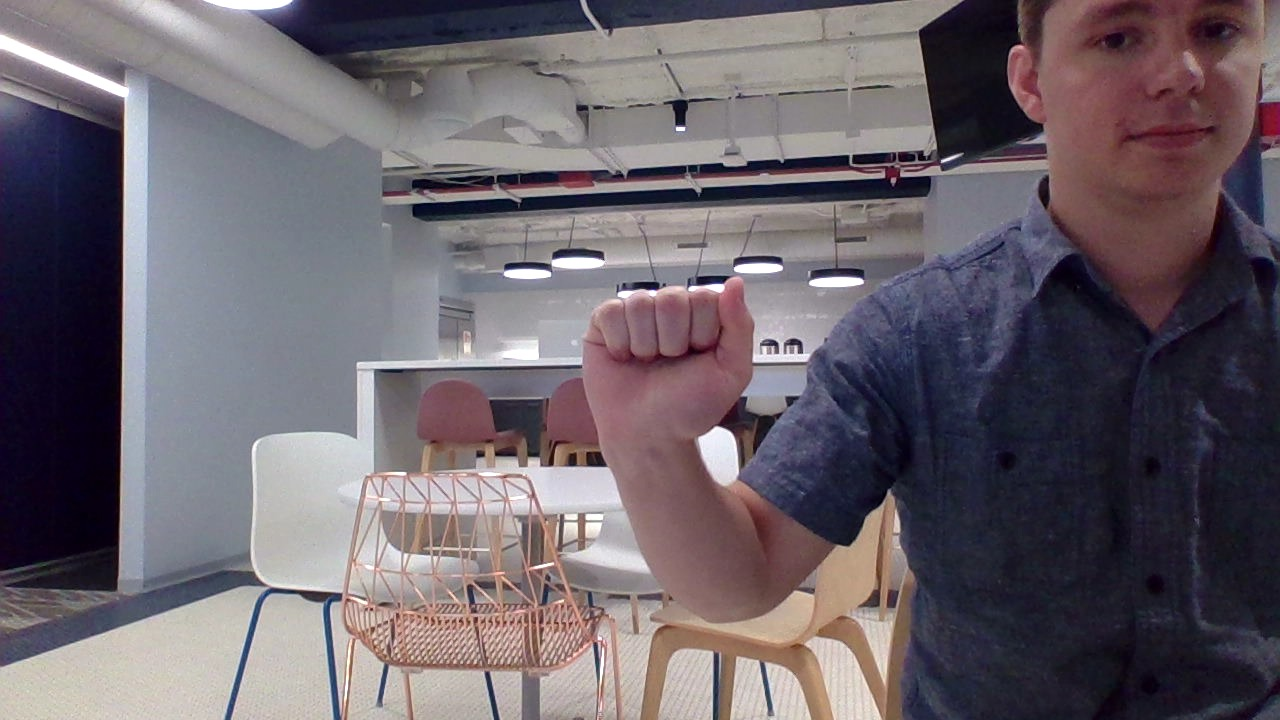a: (564, 271, 775, 460)
